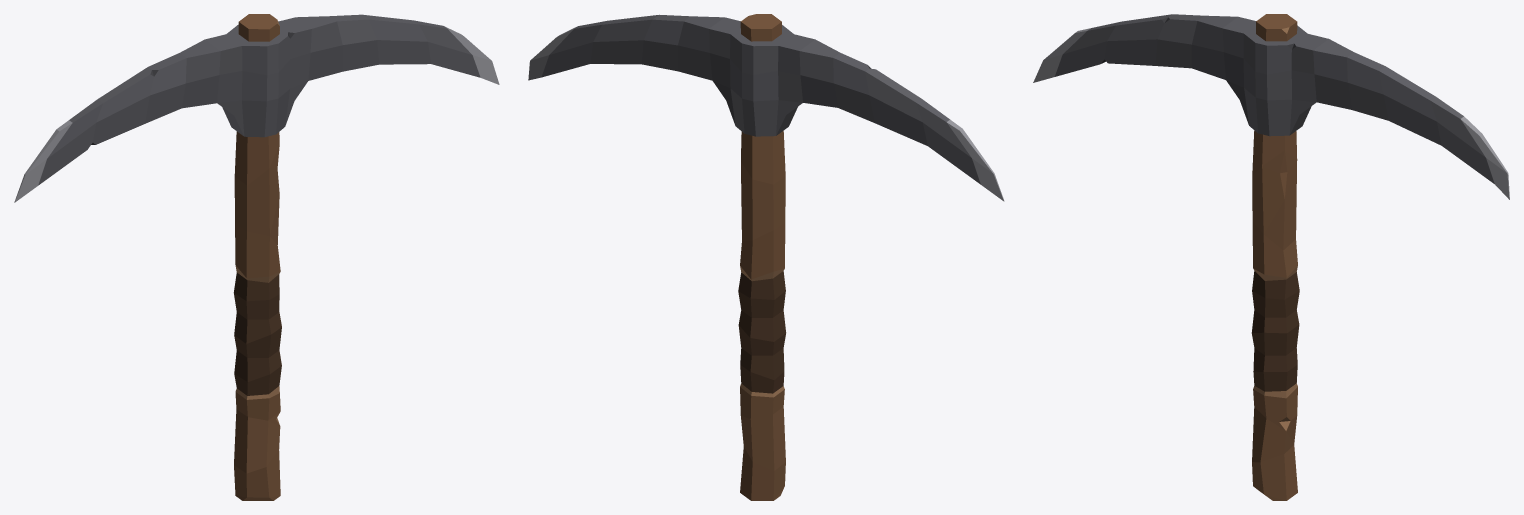
File: Pickaxe.fbx
3 renders of one model, left to right at view 1: azimuth 30°, elevation 25°; view 2: azimuth 150°, elevation 25°; view 3: azimuth 330°, elevation 25°, orthographic.
Visible parts, largest first — view 1: Pickaxe; view 2: Pickaxe; view 3: Pickaxe.
Boxes of the visible parts, x1=… form: Pickaxe: x1=14, y1=14, x2=499, y2=500; Pickaxe: x1=528, y1=14, x2=1004, y2=500; Pickaxe: x1=1033, y1=14, x2=1509, y2=500.
Bounding box in the file's own units: 0.8301 × 0.78 × 0.0876.
Materials: 1 (1 with a texture image).
